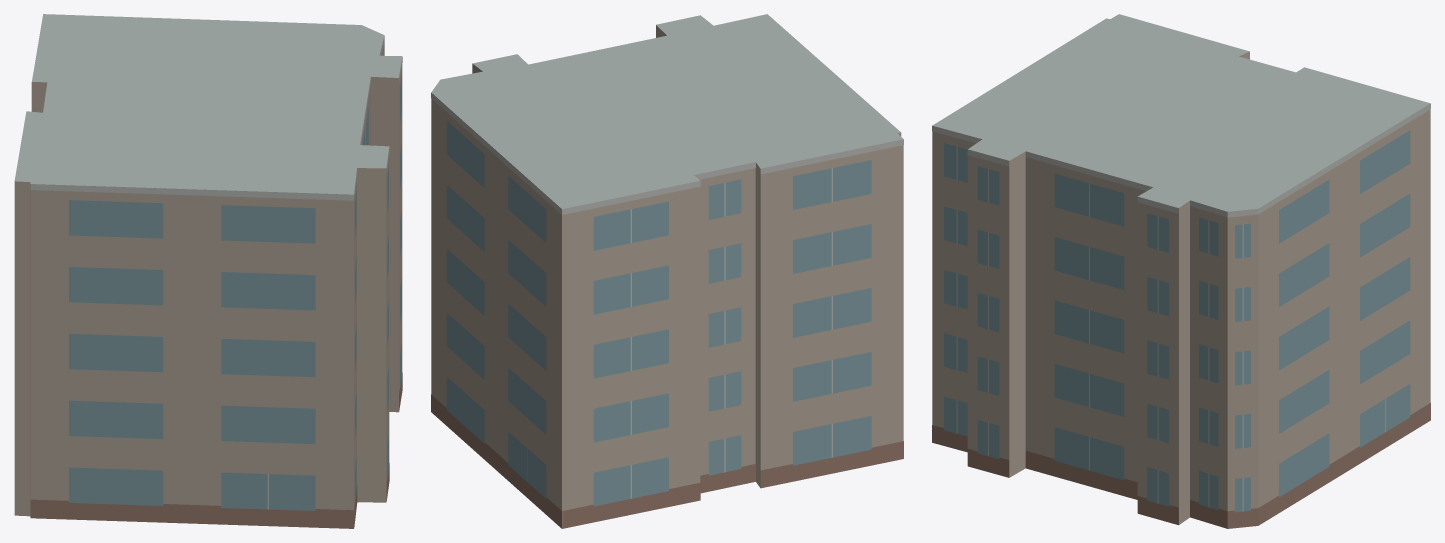
The model's file is survey-upis-32834759.glb.
The picture shows the model from 3 angles, left to right: view 1: azimuth 30°, elevation 25°; view 2: azimuth 150°, elevation 25°; view 3: azimuth 270°, elevation 25°; orthographic projection. The views are drawn at different scales.
Visible parts, largest first — view 1: survey-upis-32834759.tmp; view 2: survey-upis-32834759.tmp; view 3: survey-upis-32834759.tmp.
Boxes of the visible parts, x1,y1,x2,y2 form: survey-upis-32834759.tmp: (14,14,402,528); survey-upis-32834759.tmp: (431,14,903,528); survey-upis-32834759.tmp: (932,14,1430,528).
Size of the model in its own units: 17.94 by 13.4 by 19.11.
